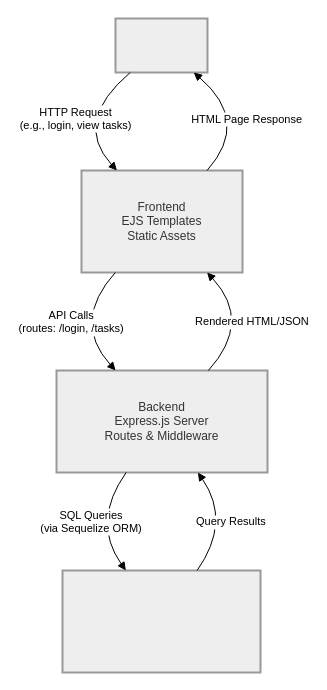
Image size: 327x690. Some labels were removed from this diagram. The shapes that lost their labels are listed below. From the top down, each one's centre as x and y in pixels, then its label:
At (161,45): "User".
At (161,621): "Database MySQL Tables: users, tasks".
